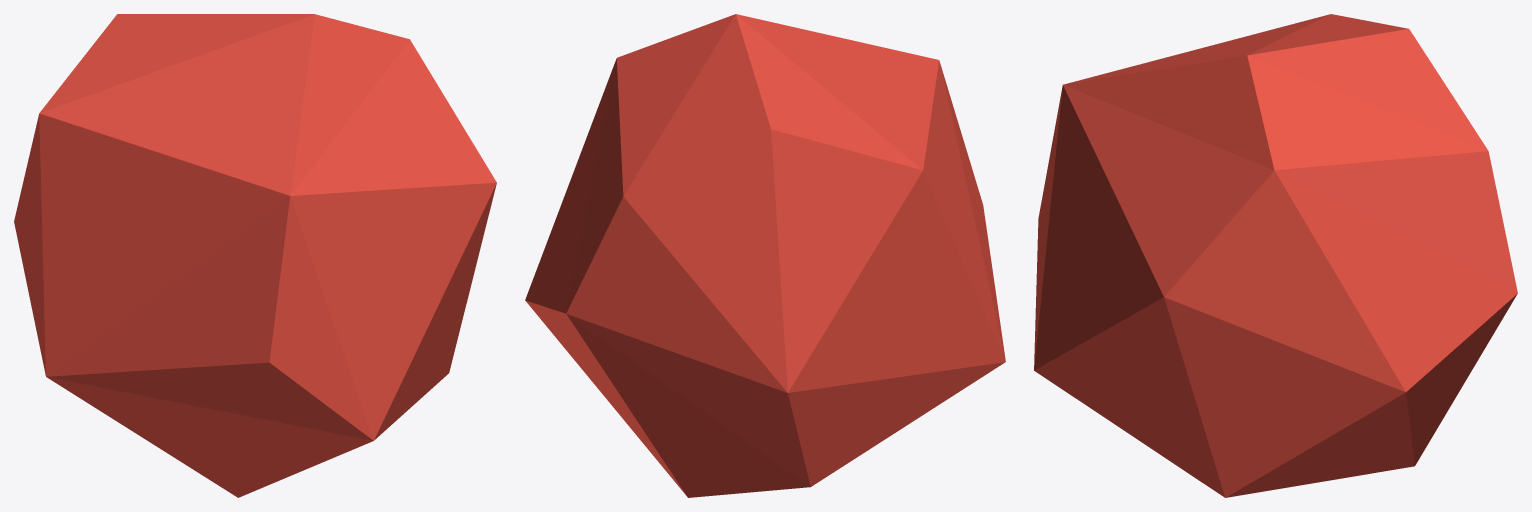
The model's file is Crystal4.glb.
The picture shows the model from 3 angles, left to right: view 1: azimuth 30°, elevation 25°; view 2: azimuth 150°, elevation 25°; view 3: azimuth 270°, elevation 25°; orthographic projection. The views are drawn at different scales.
Parts seen in each view (by area): view 1: Crystal4; view 2: Crystal4; view 3: Crystal4.
Part boxes in pixels (left/top/right/bottom): Crystal4: left=14, top=14, right=496, bottom=497; Crystal4: left=525, top=14, right=1005, bottom=497; Crystal4: left=1034, top=14, right=1517, bottom=497.
Size of the model in its own units: 0.19 by 0.2004 by 0.1921.
